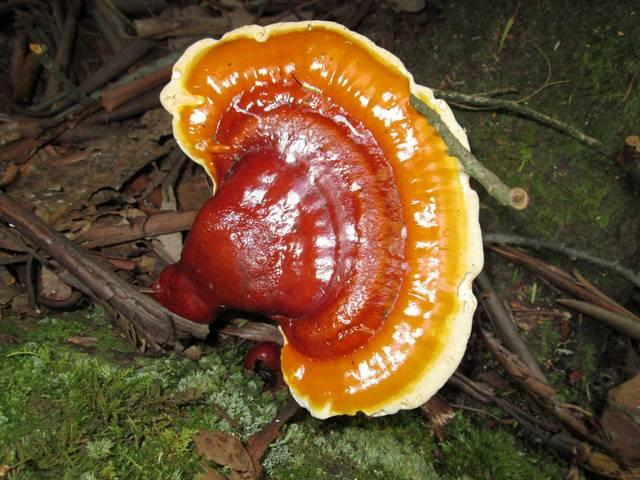poisonous_mushroom: (150, 18, 485, 420)
